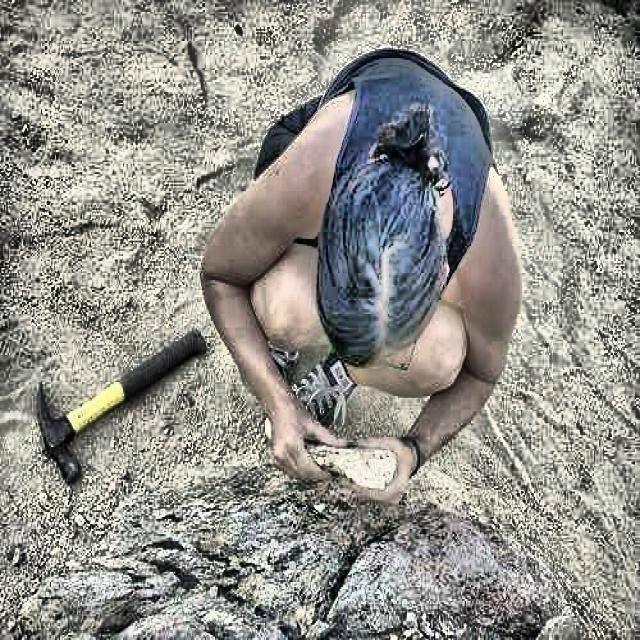hammer: (36, 319, 207, 479)
